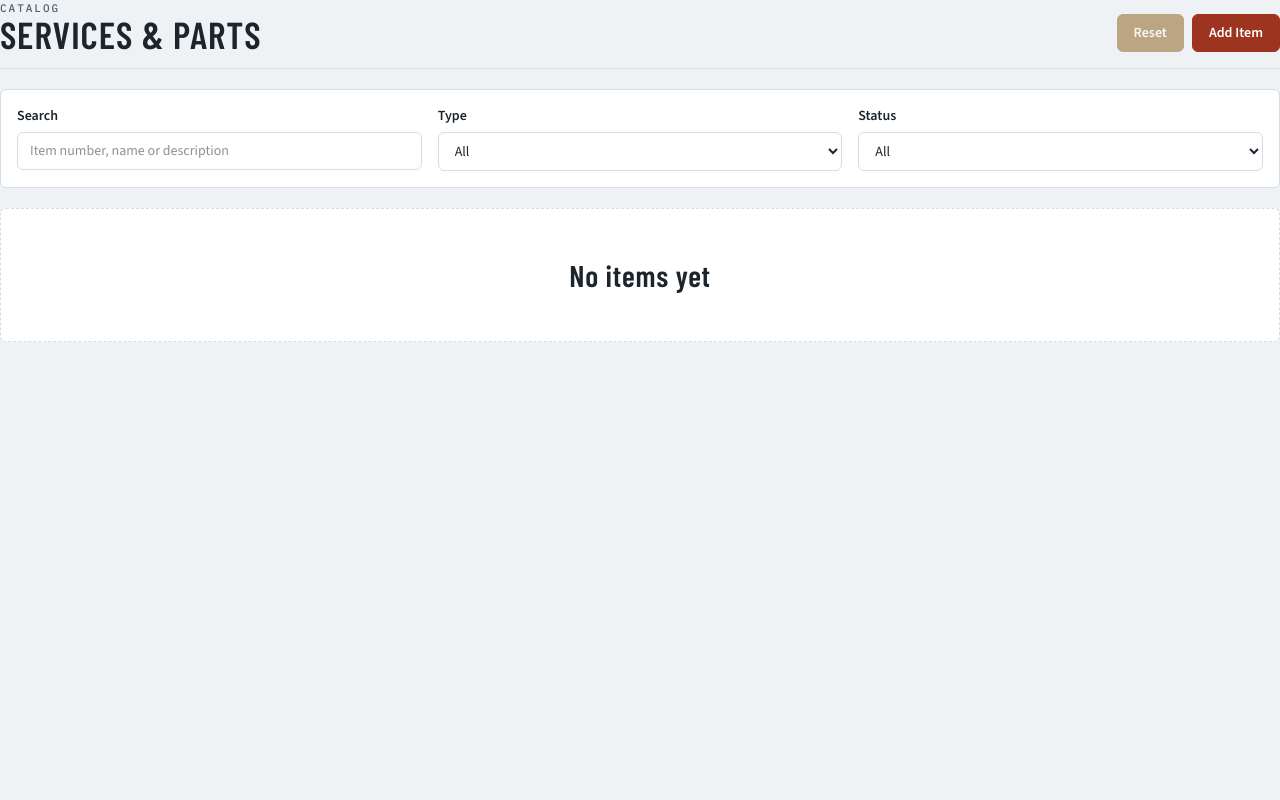
Test: add shows the new item number and maps duplicate_name to the name field
The image size is (1280, 800).
Click the button "Add Item" at (1236,33), box [1192,14,1279,52]
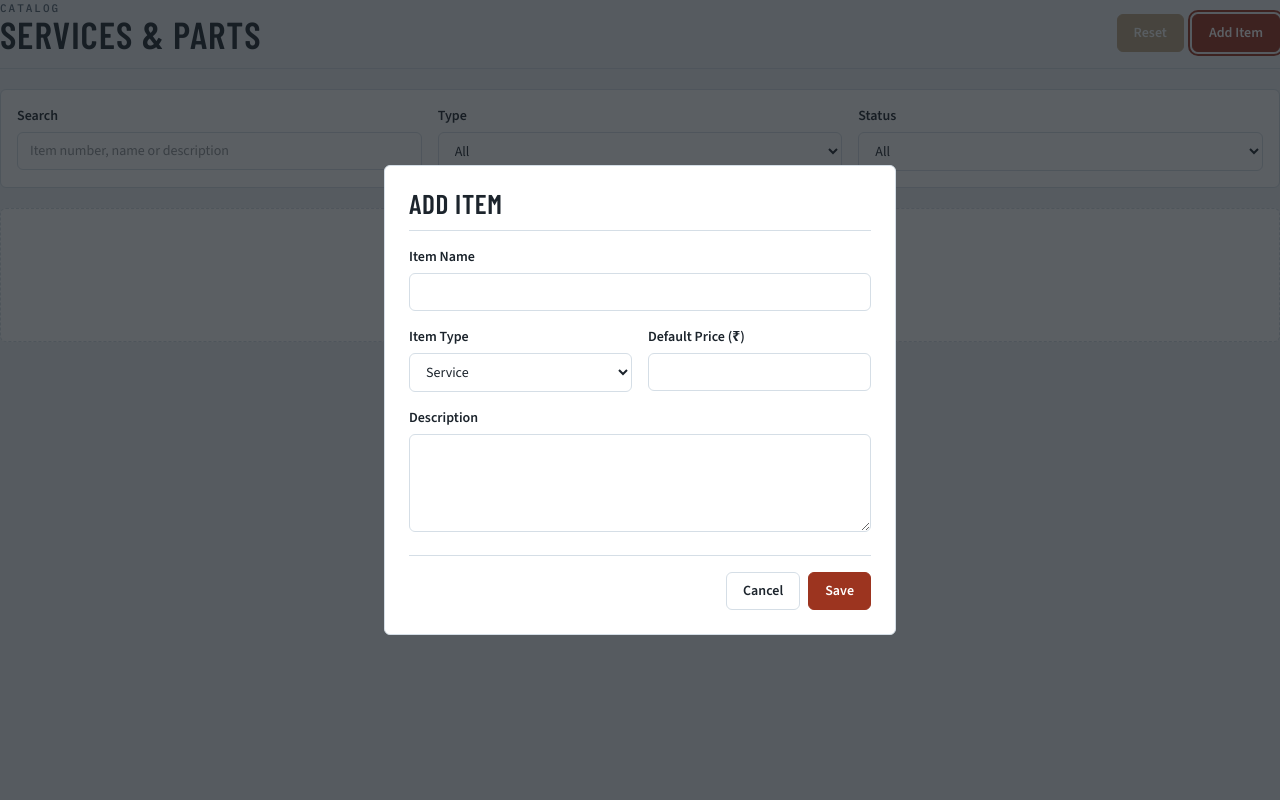
Type "Belt" into the field labelled "Item Name" at (640,292), box [409,273,871,311]
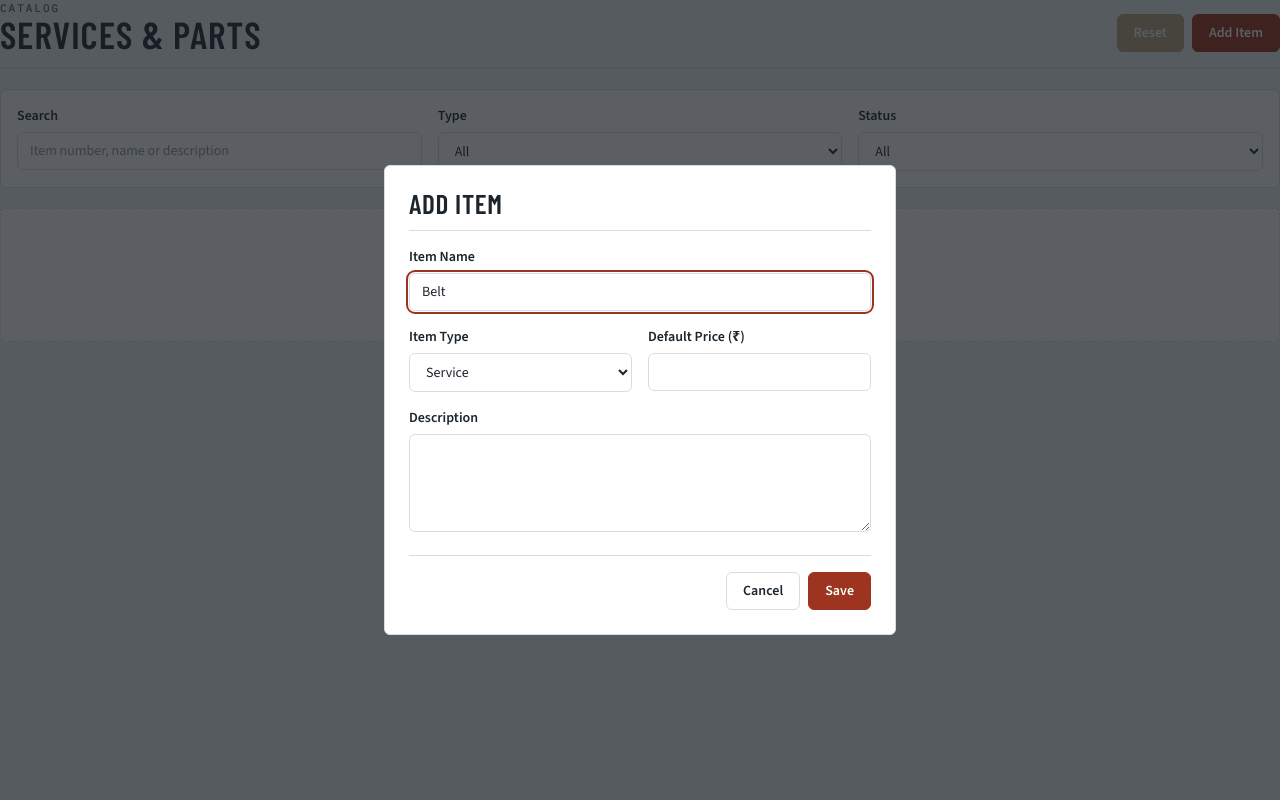
Type "50" into the field labelled "Default Price (₹)" at (760,372), box [648,353,871,391]
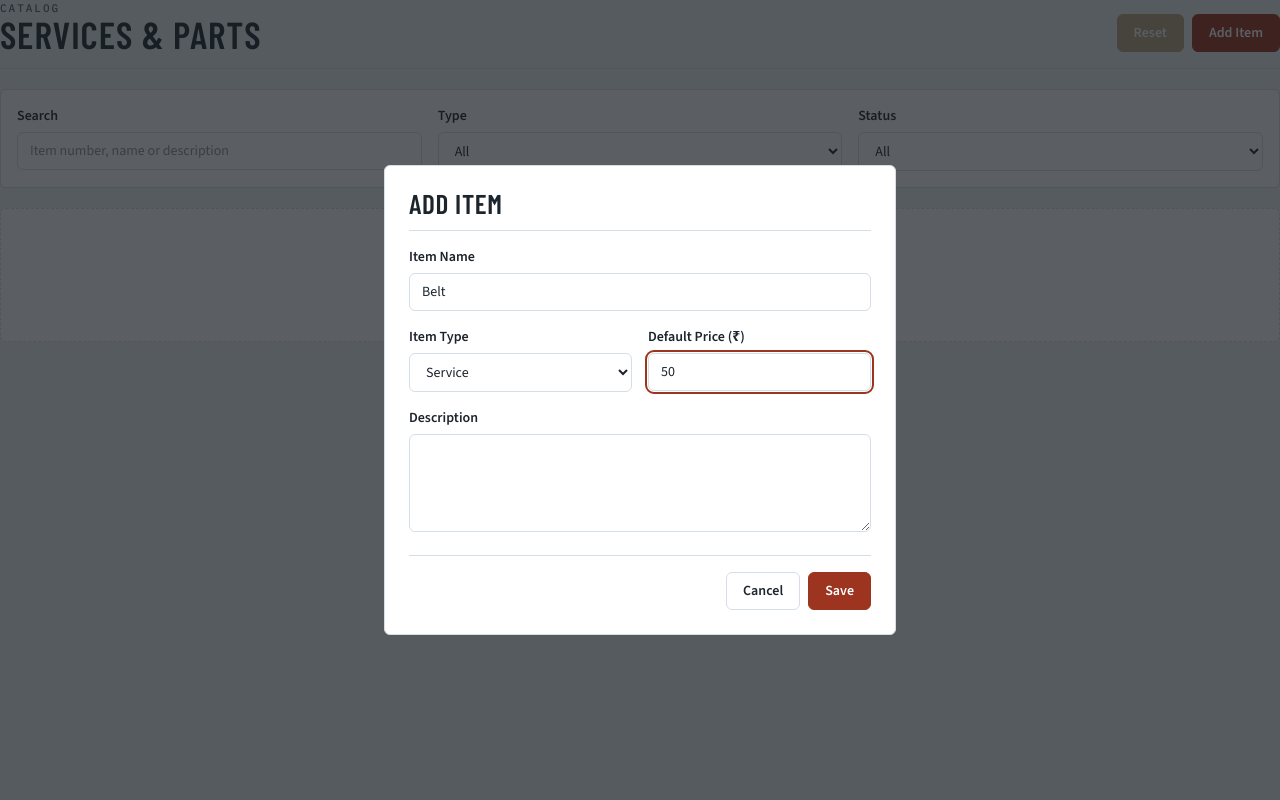
Click the button "Save" at (840,591), box [808,572,871,610]
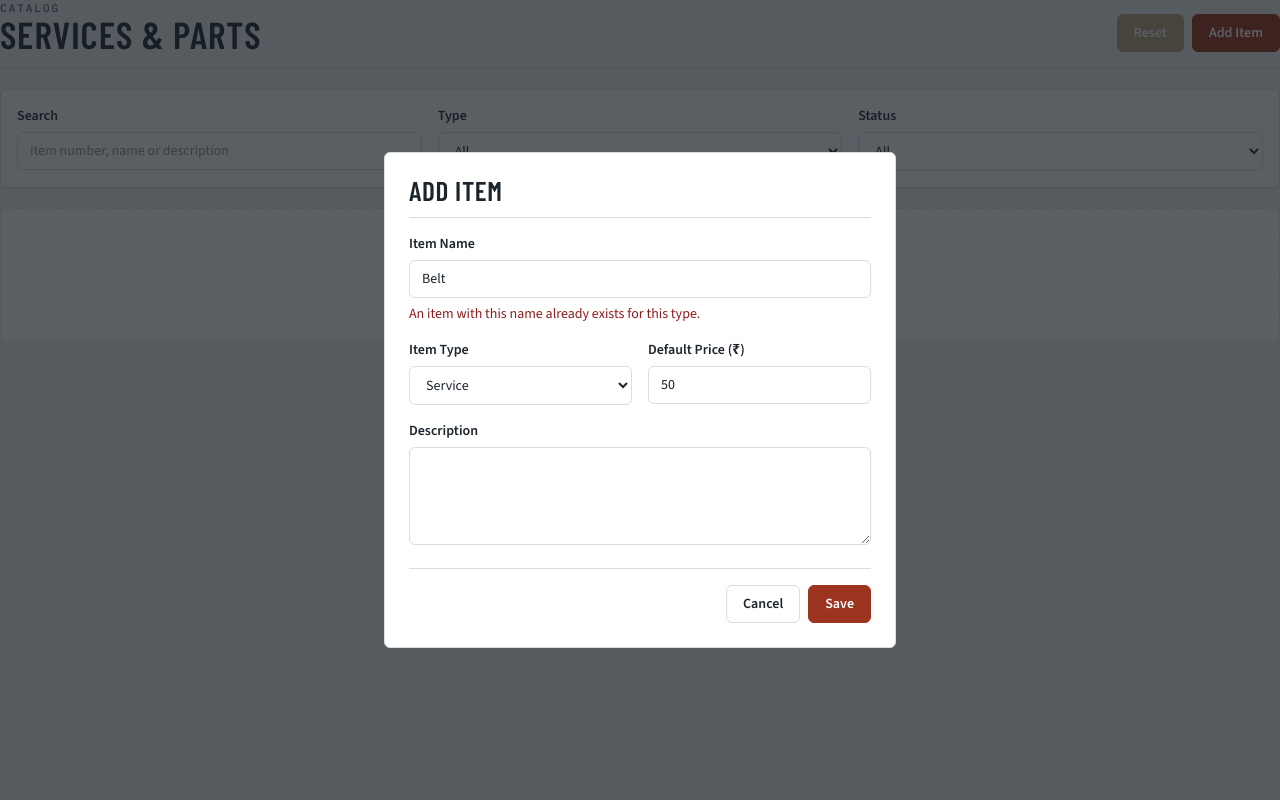
Expected: the text "An item with this name already exists for this type." is shown, [409,304,700,323]
Click the button "Save" at (840,604), box [808,585,871,623]
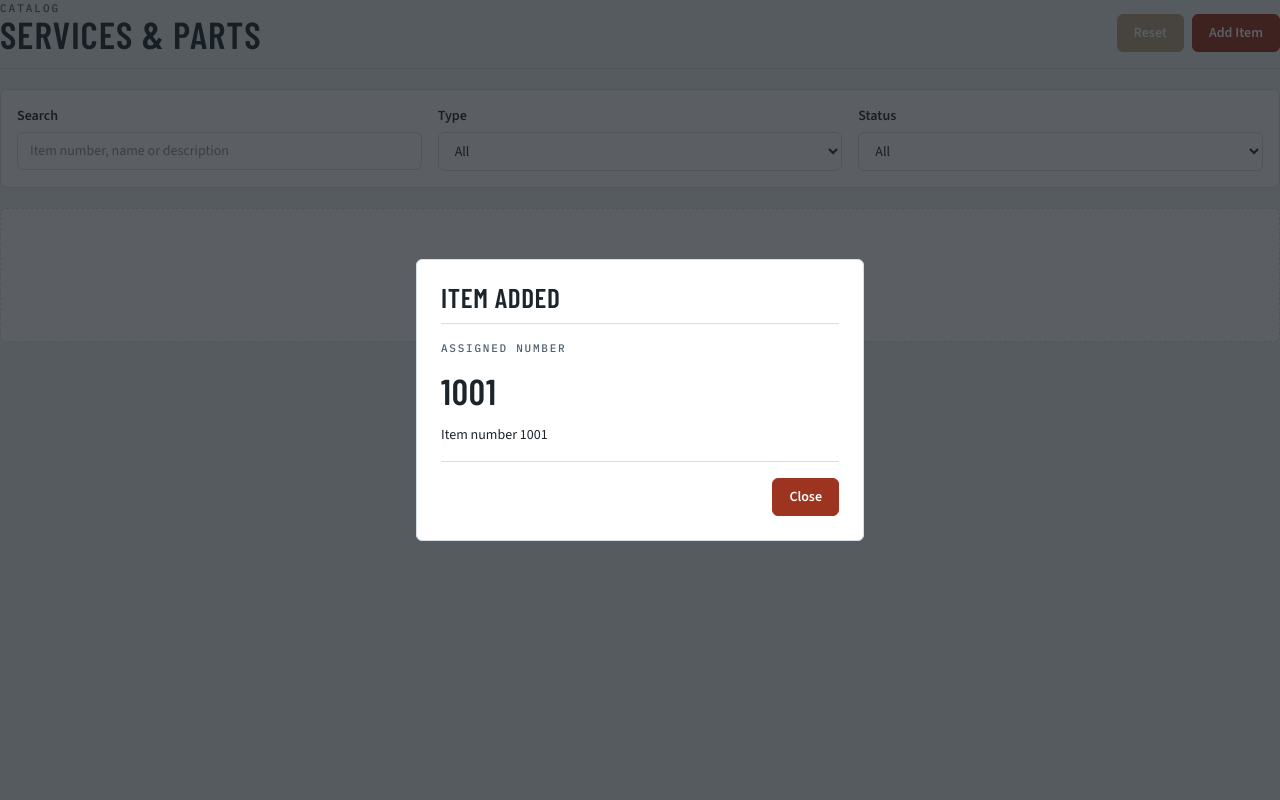
Expected: the text "Item number 1001" is shown, [441,425,548,444]
Expected: the button "Close" is shown, [772,478,839,516]
